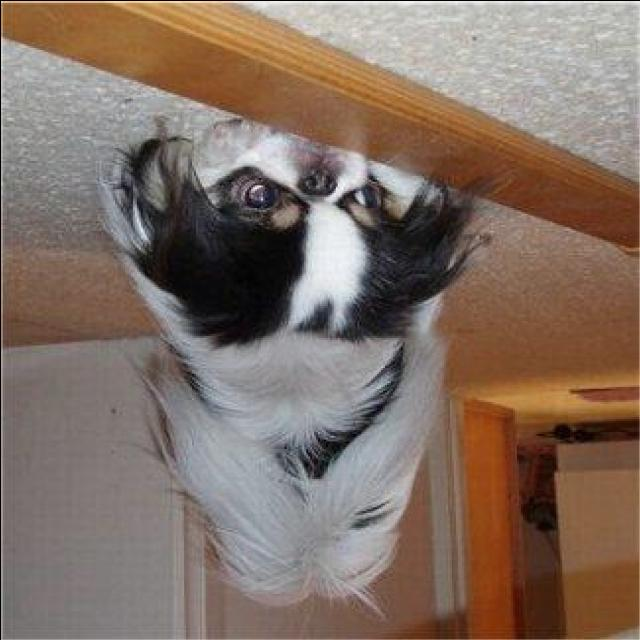husky: (104, 124, 490, 600)
